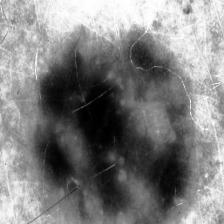Benign Marking or Mole: (26, 36, 191, 224)
